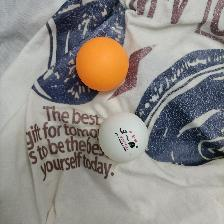WhiteBall: (98, 112, 148, 162)
YellowBall: (74, 36, 128, 92)
